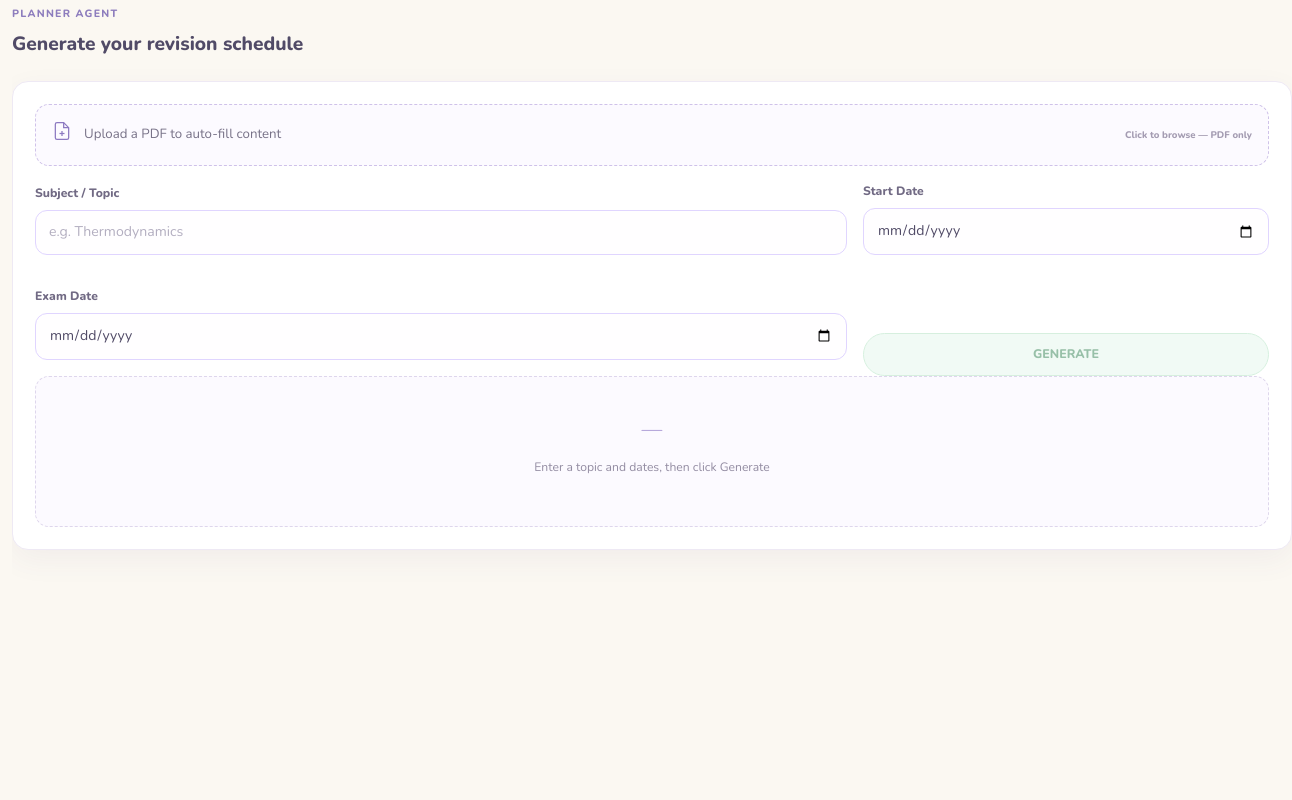
Test: renders schedule date, task, and duration from the API response
The image size is (1292, 800).
In the field labelled "Subject / Topic": [441, 233] box [35,210,847,255], type "Algebra"
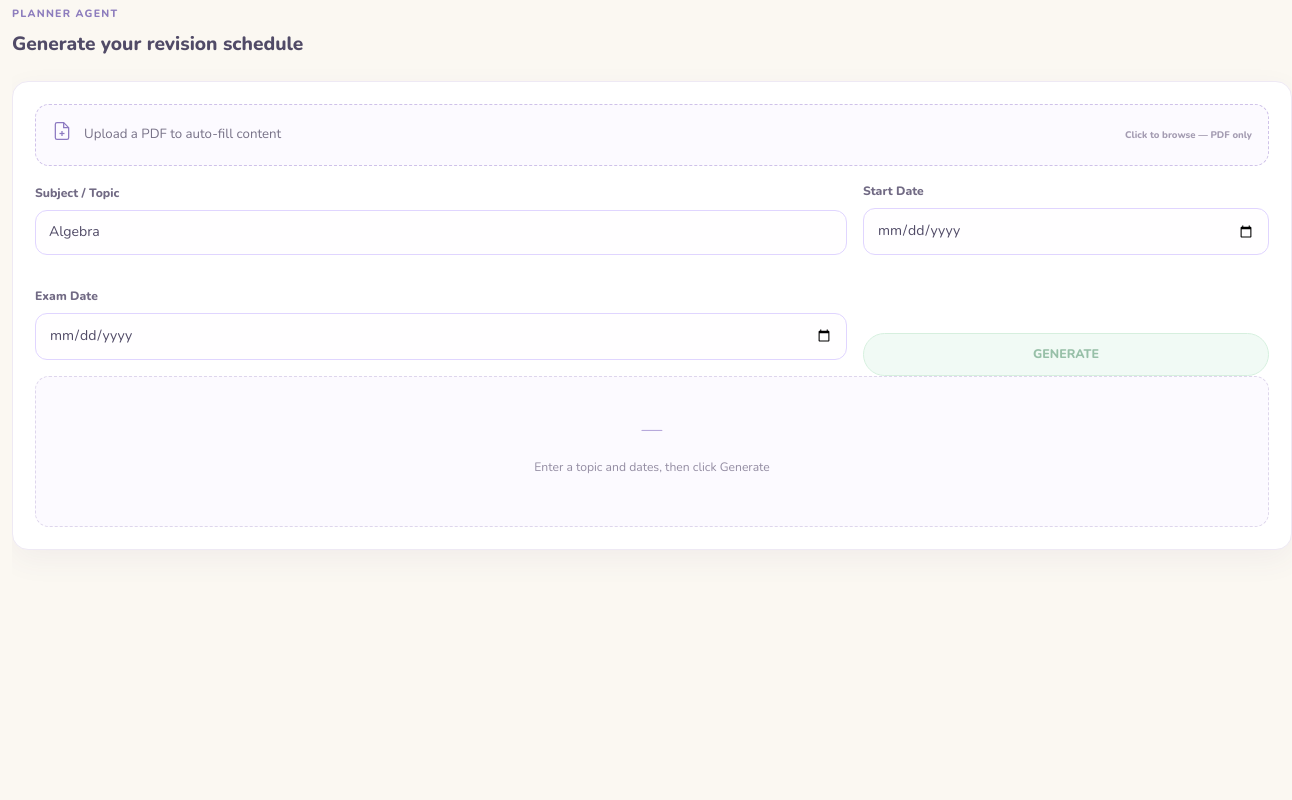
In the date field labelled "Start Date": [1066, 232] box [863,208,1269,255], type "2026-11-19"
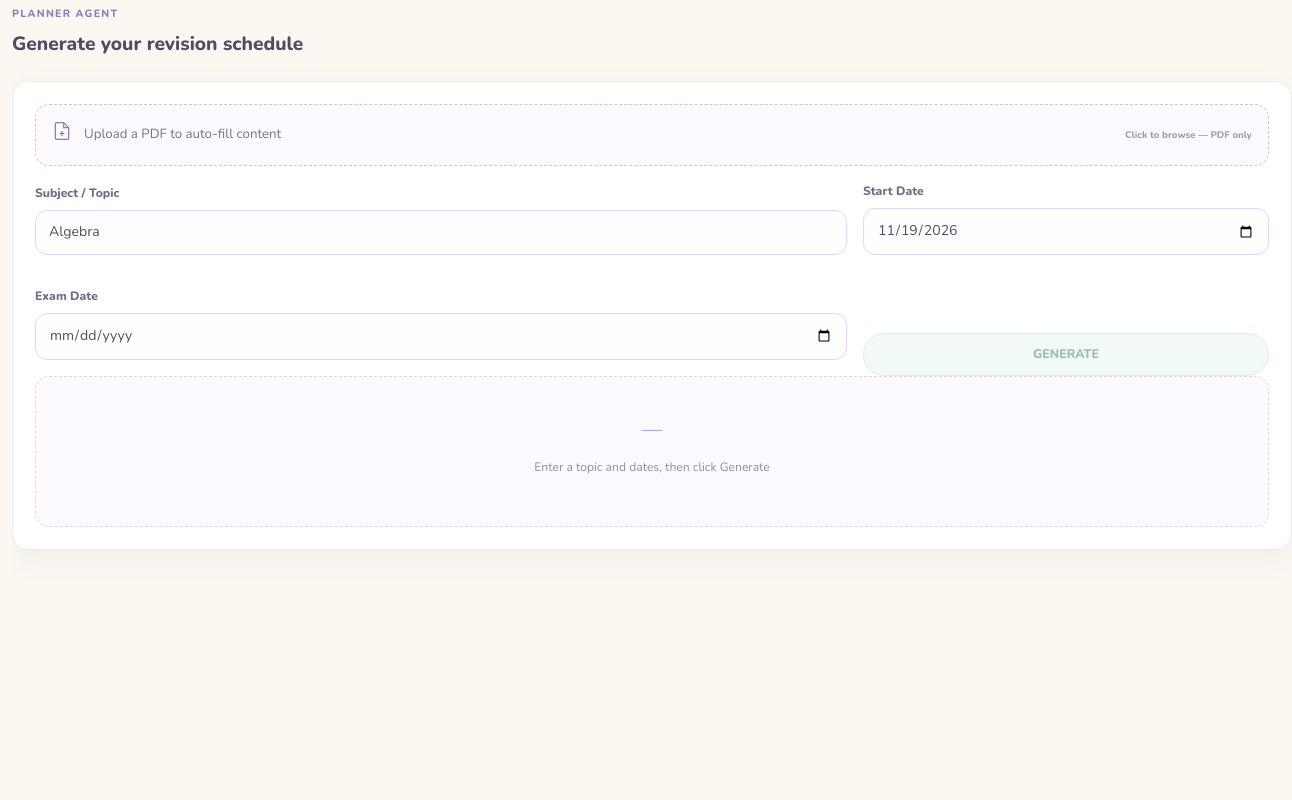
In the date field labelled "Exam Date": [441, 336] box [35,313,847,360], type "2026-11-19"
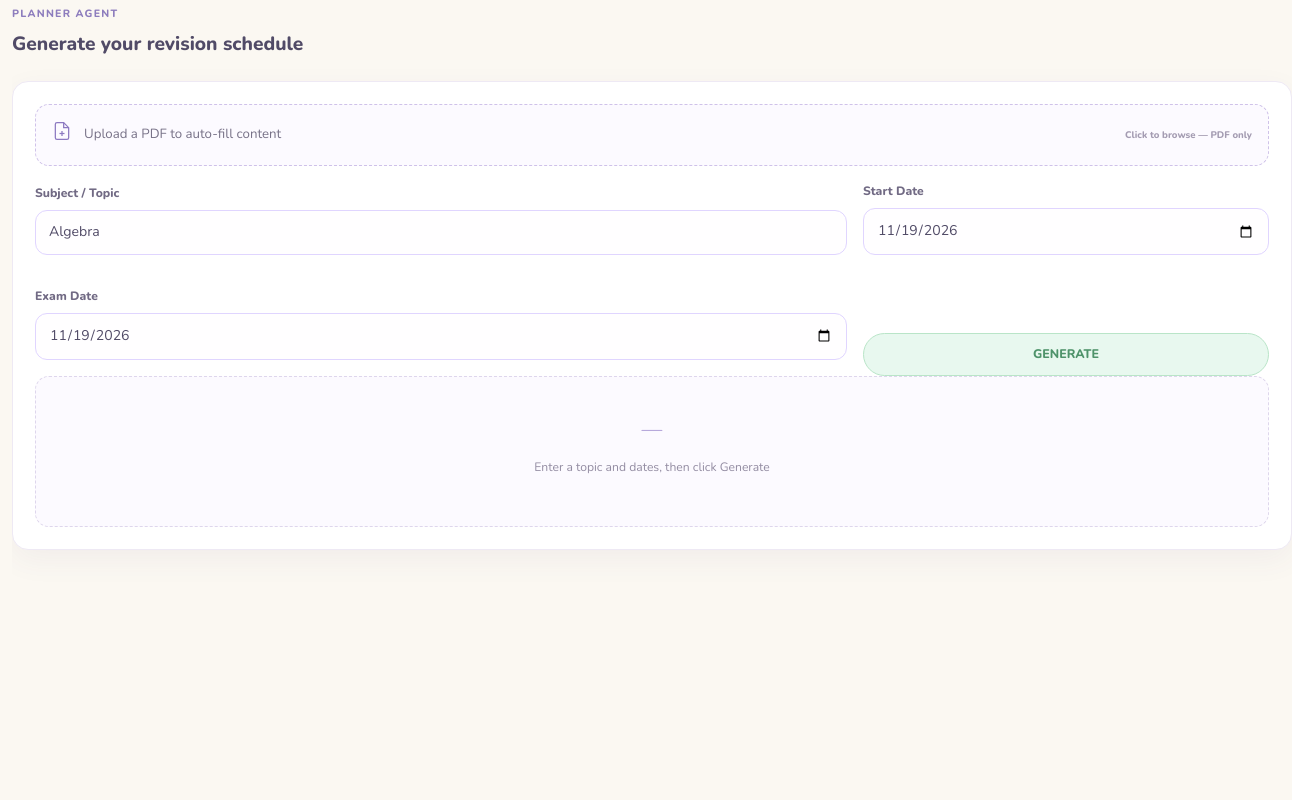
Click the button "GENERATE": [1066, 354] box [863,333,1269,376]
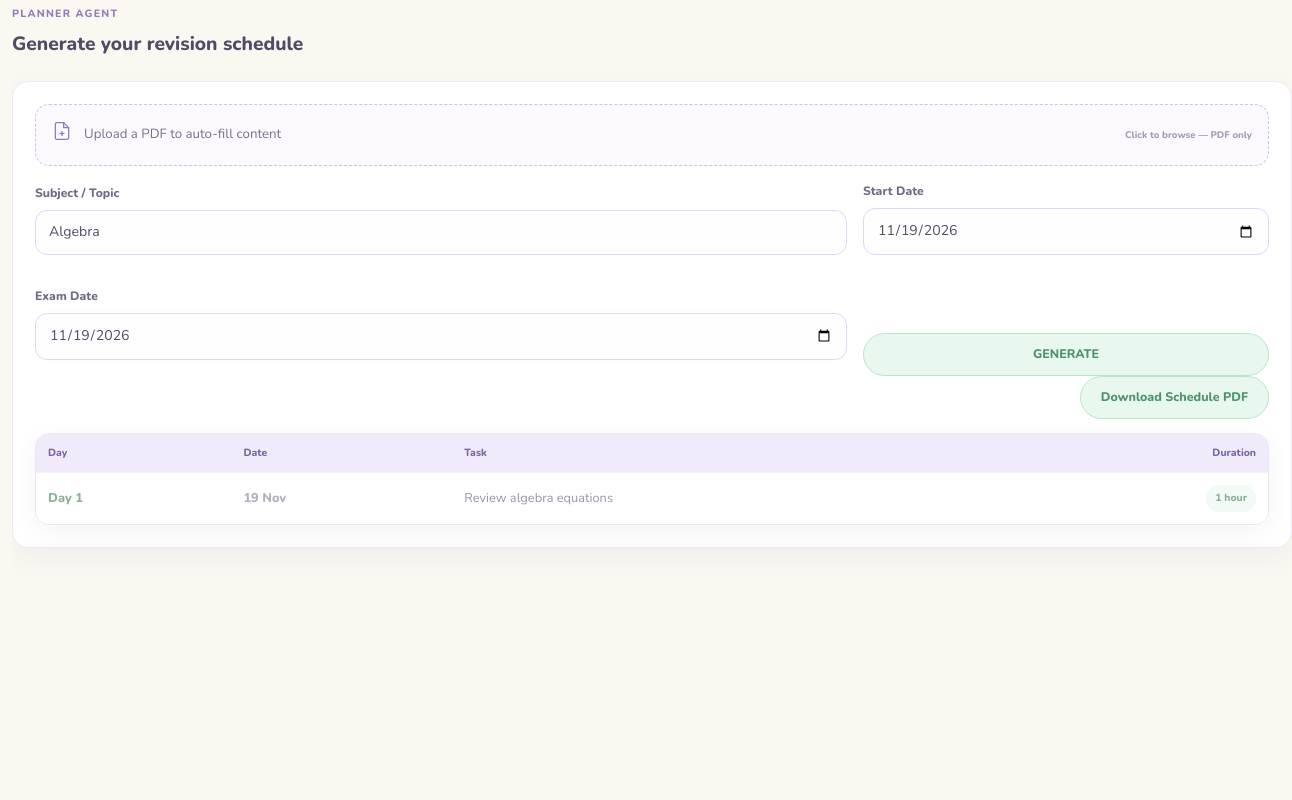
Expected: the text "19 Nov" is shown, [231,472,452,524]
Expected: the text "Review algebra equations" is shown, [452,472,1024,524]
Expected: the text "1 hour" is shown, [1206,485,1256,512]
